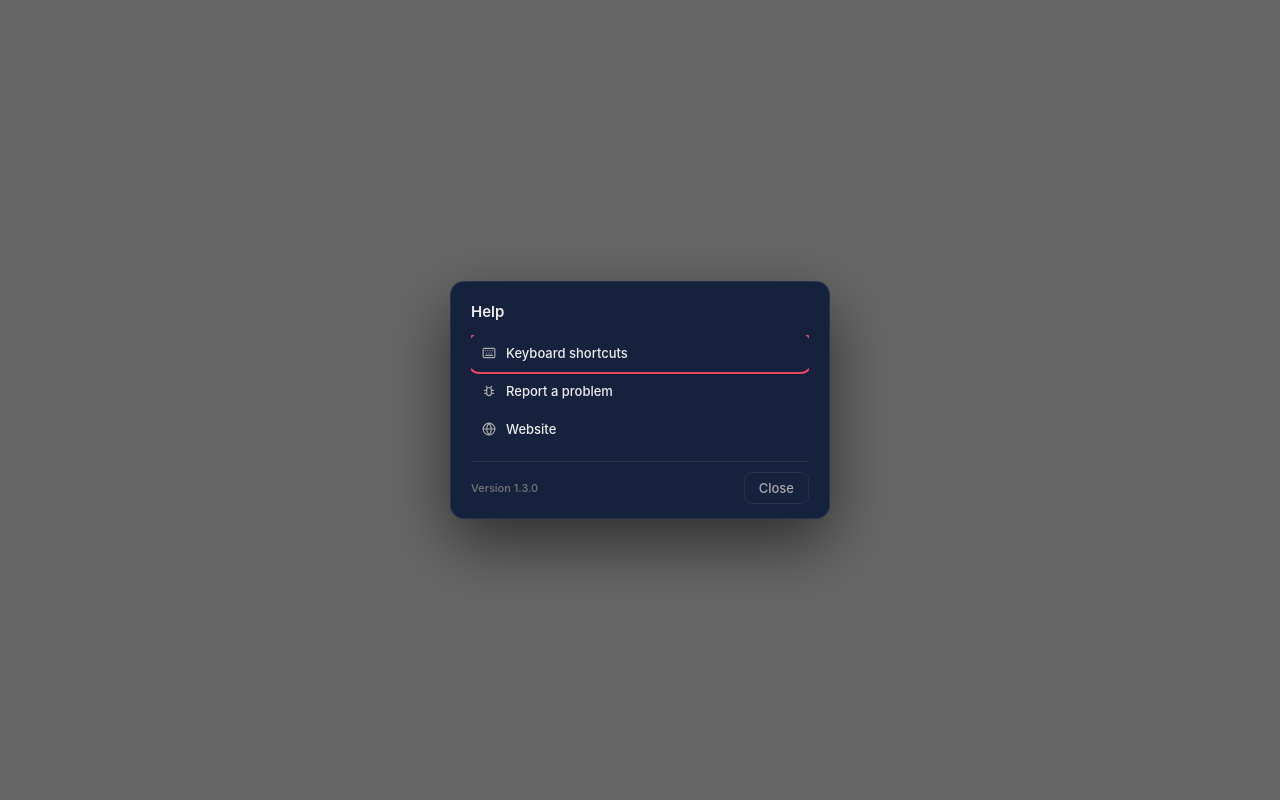
it: HelpMenu — actions › shows the exported diagnostics path
Click the button "Report a problem": [559, 391] box [471, 373, 809, 409]
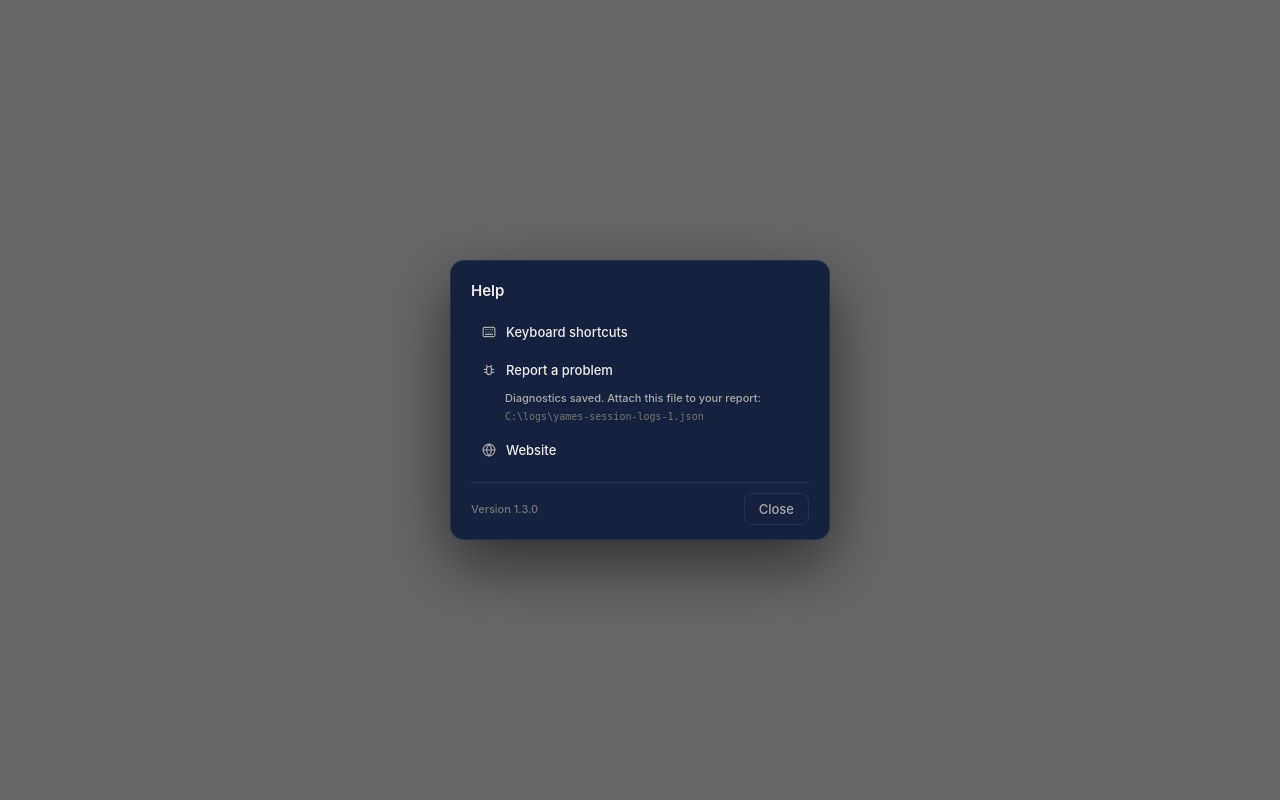
Expected: the element with test id "help-report-path" shows "yames-session-logs-1.json", [505, 411, 704, 422]
